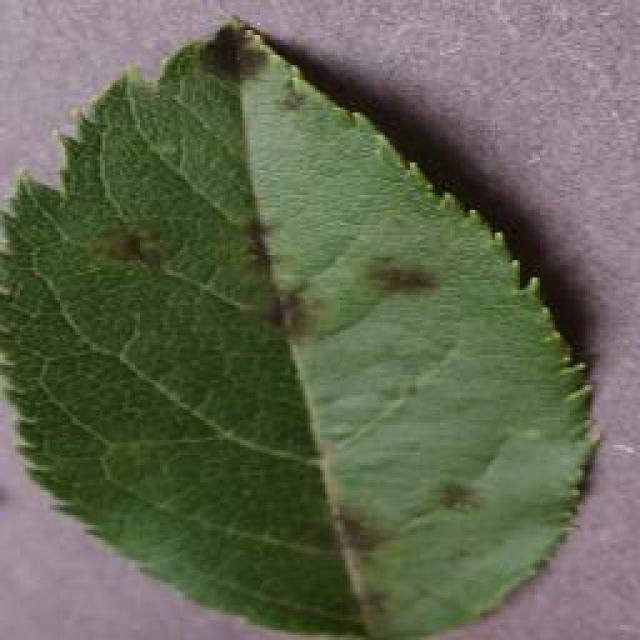apple scab disease: (0, 14, 602, 637)
